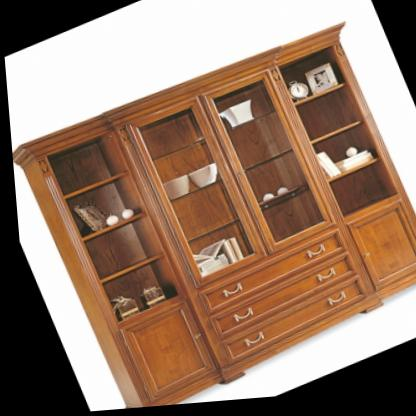Cupboard: (9, 19, 416, 416)
